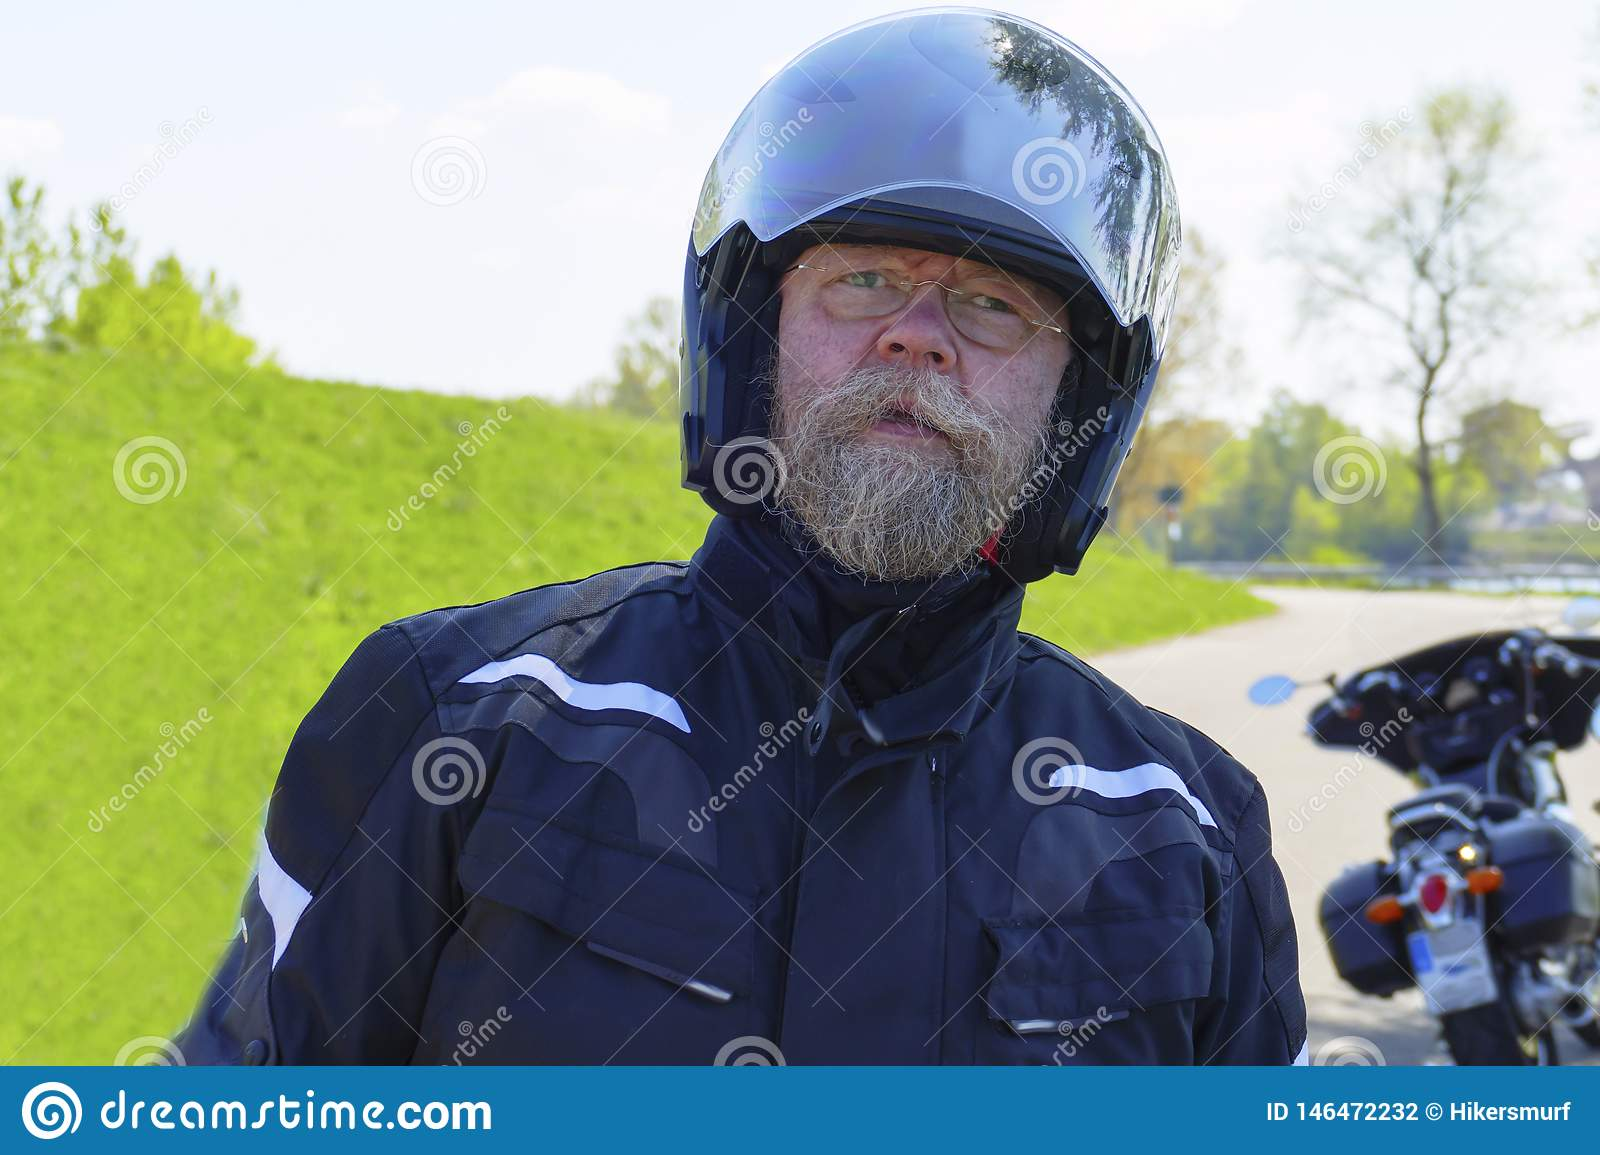helmet: (684, 47, 1175, 586)
